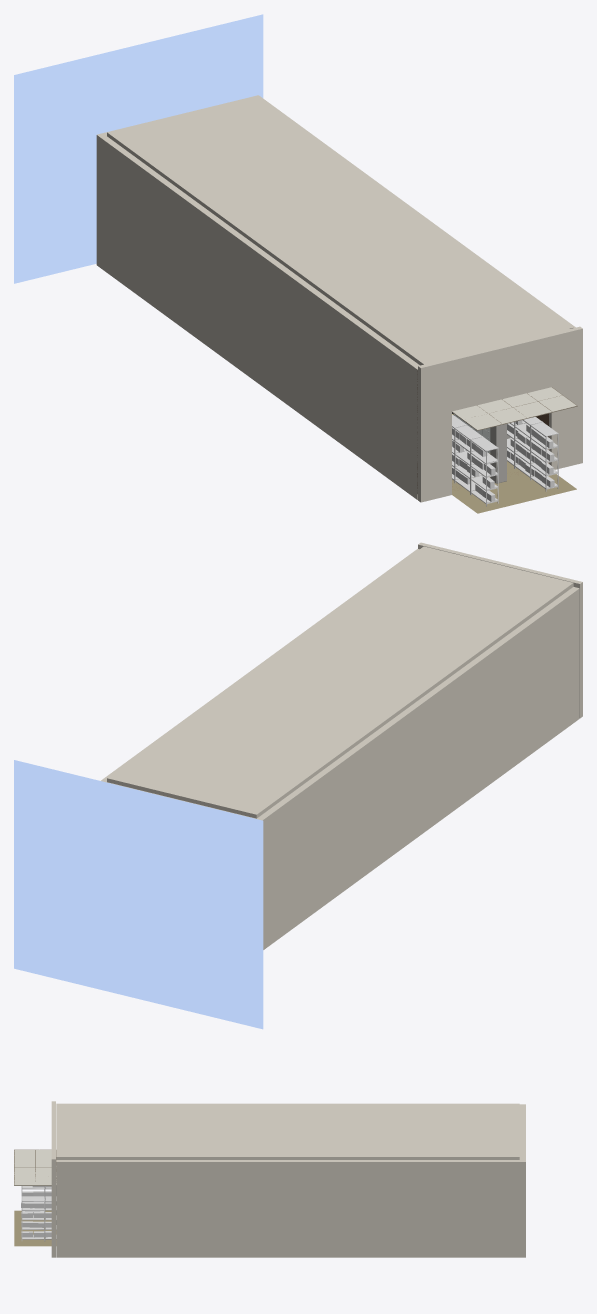
Rendered from archive.glb.
3 renders of one model, top to bottom at view 1: azimuth 30°, elevation 25°; view 2: azimuth 150°, elevation 25°; view 3: azimuth 270°, elevation 25°, orthographic. The views are drawn at different scales.
Visible parts, largest first — view 1: arch_hall, x_moonsky, m_shelf, m_cell, m_pillar; view 2: arch_hall, x_moonsky; view 3: arch_hall, m_cell, m_shelf.
Part boxes in pixels (box(x1,y1,x2,y2)): arch_hall: box(96, 95, 582, 502); x_moonsky: box(14, 14, 263, 283); m_shelf: box(452, 414, 558, 506); m_cell: box(452, 387, 577, 513); m_pillar: box(490, 424, 506, 483); arch_hall: box(101, 542, 582, 949); x_moonsky: box(14, 760, 263, 1029); arch_hall: box(51, 1101, 525, 1257); m_cell: box(14, 1149, 56, 1246); m_shelf: box(21, 1186, 56, 1241).
Bounding box in the file's own units: 10 × 8 × 27.01.
